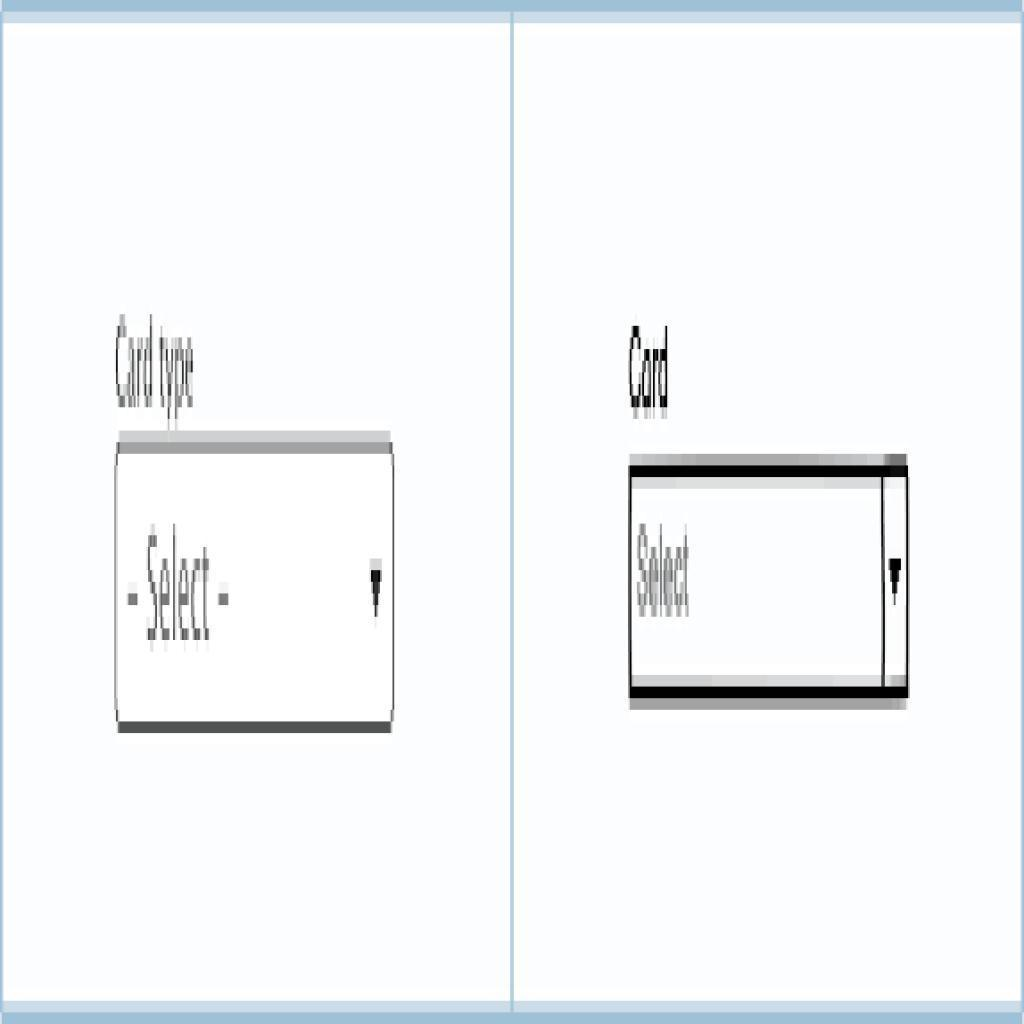dropdown: (109, 434, 402, 736), (627, 452, 916, 704)
